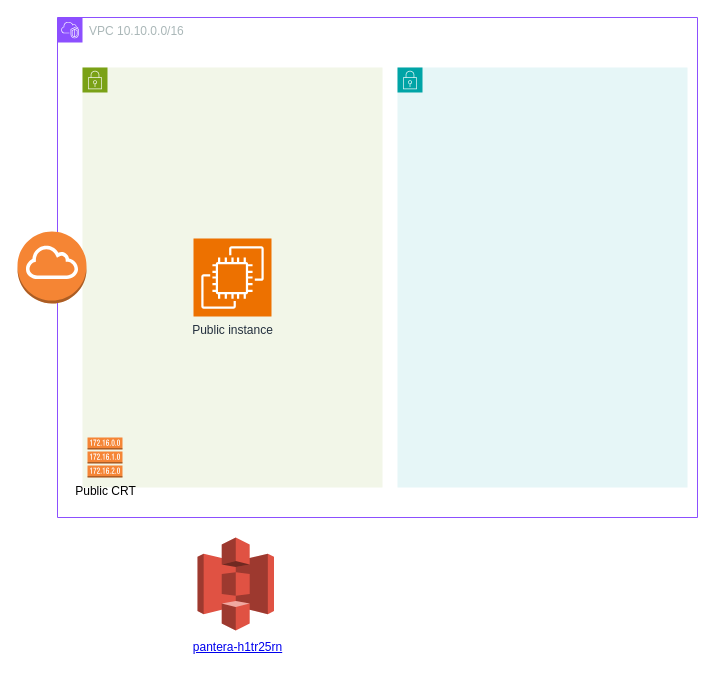
The diagram is 715 pixels wide and 675 high, and some of its shapes have lost their labels. The box of each missing label's shape, as (x1, y1, x2, y2) in pixels:
Private subnet 10.10.1.0/24: (396, 66, 688, 488)
Public subnet 10.10.0.0/24: (82, 66, 382, 488)
